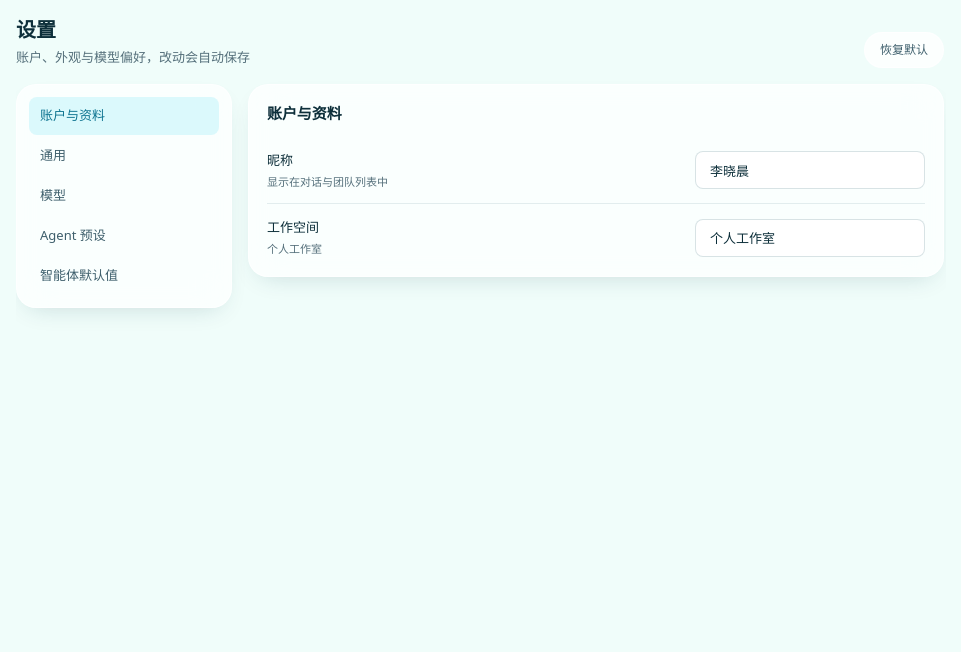
Test: the built-in group lists all four presets with their ids
The image size is (961, 652).
Expected: the heading "设置" is shown, [16,16,56,43]
Click the button "Agent 预设" at x=124, y=236, box [29,217,219,255]
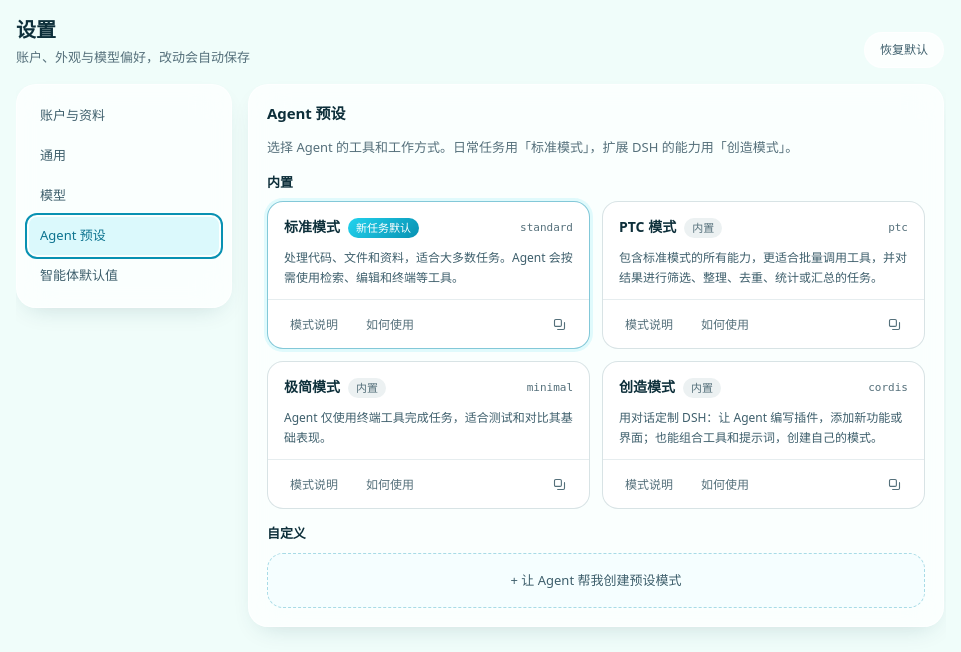
Now the text "标准模式" is shown, box [284,216,340,239]
Now the text "PTC 模式" is shown, box [619,216,676,239]
Now the text "极简模式" is shown, box [284,376,340,399]
